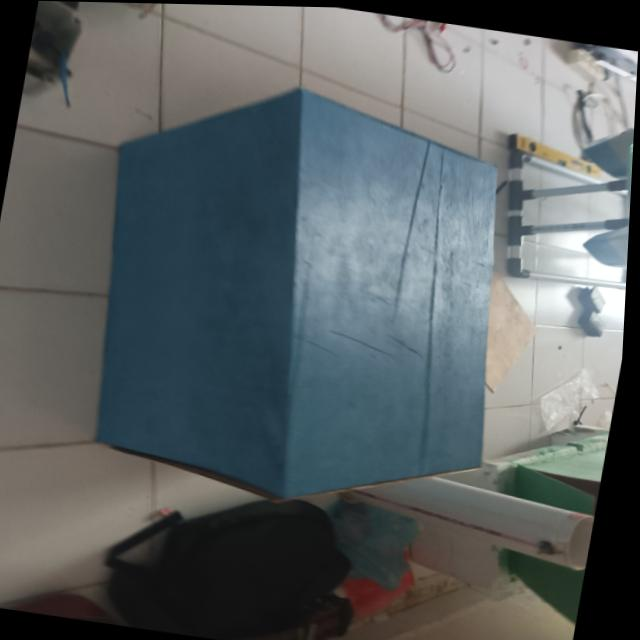blue_box: (23, 57, 598, 532)
